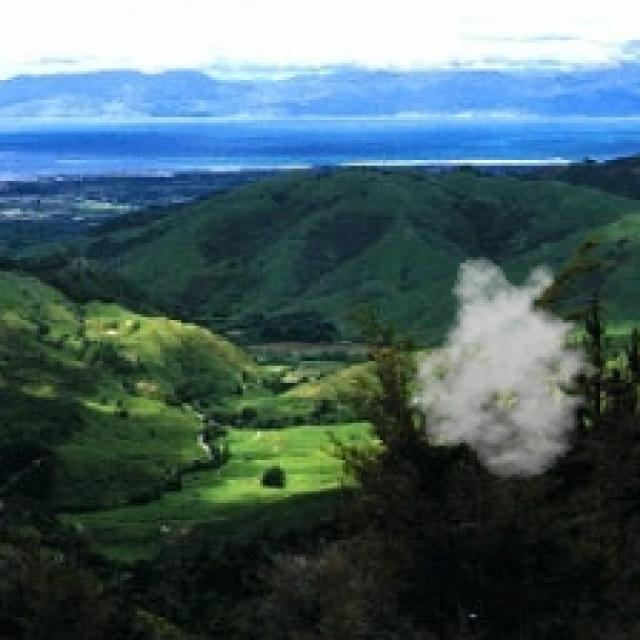Smoke: (399, 255, 612, 480)
